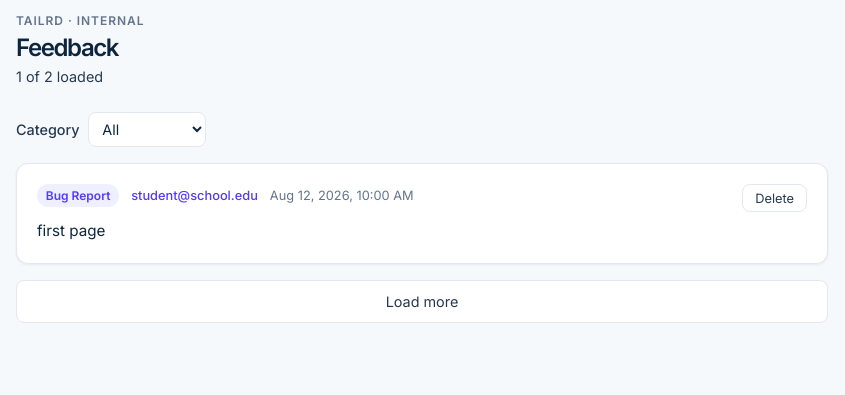
AdminFeedback › loads the next page rather than hiding the rest
This screenshot has width=845, height=395.
Expected: the text "first page" is shown, 37,221 -> 105,240
Click the button "Load more": (422, 302) 16,280 -> 828,323
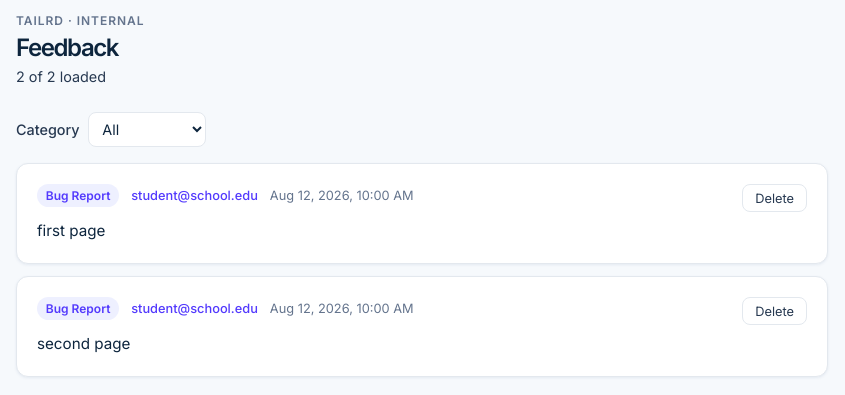
Expected: the text "first page" is shown, 37,221 -> 105,240
Expected: the text "second page" is shown, 37,334 -> 130,353
